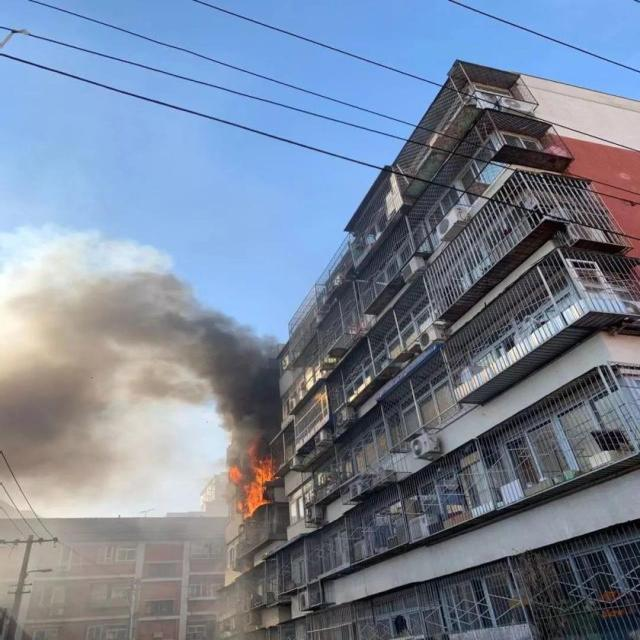Smoke: (0, 224, 275, 480)
